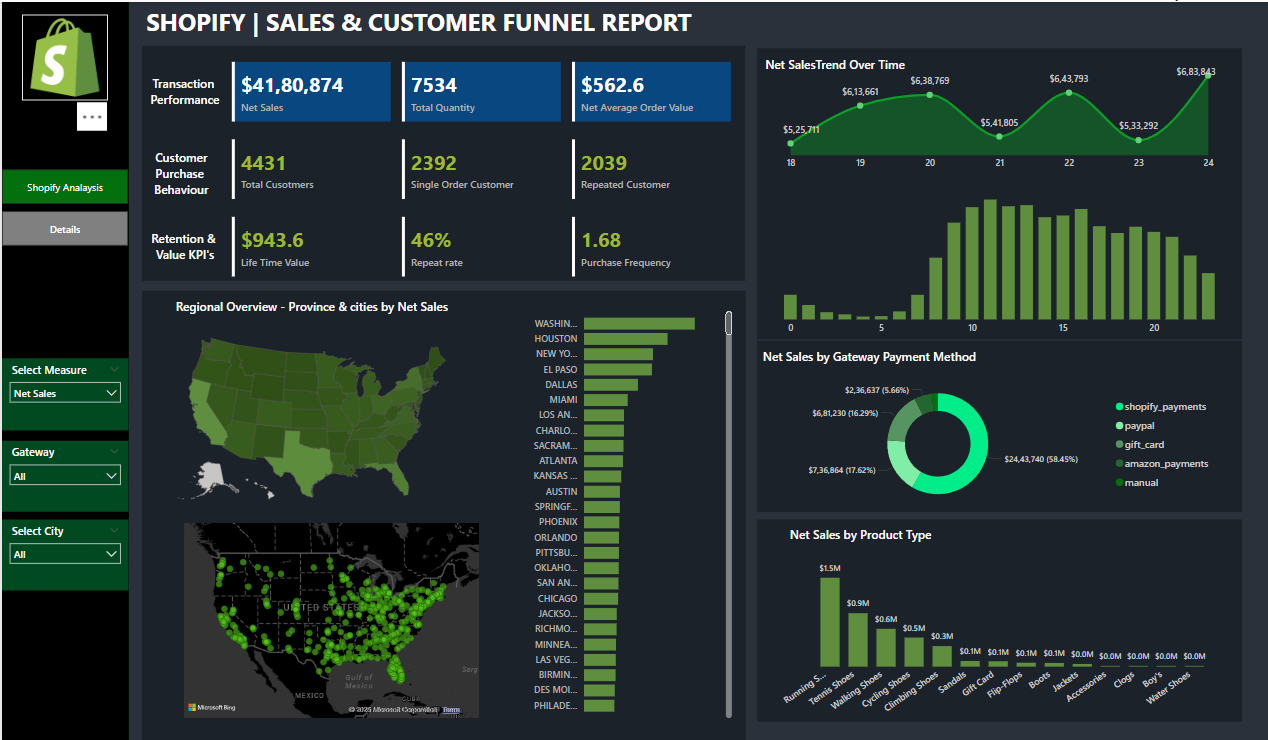

The page's visual inventory and layout, read from the dashboard file:
{"tool":"powerbi","page":{"name":"Shopify Analaysis","canvas":[1700,1000],"ordinal":0},"visuals":[{"type":"shape","box":[0,0,170,1000.5],"z":0},{"type":"textbox","box":[181,0,755.7,62],"z":1000},{"type":"shape","box":[187.7,58.6,808.7,315],"z":2000},{"type":"cardVisual","fields":{"Data":["shopify_sales.Net Sales","shopify_sales.Total Quantity","shopify_sales.Net Average Order Value"]},"box":[303.3,75.4,680.3,90.5],"z":3000},{"type":"card","fields":{"Values":["shopify_sales.Transaction Perf"]},"box":[187.7,72.1,115.6,93.8],"z":4000},{"type":"cardVisual","fields":{"Data":["shopify_sales.Total Cusotmers","shopify_sales.Single Order Customer","shopify_sales.Repeated Customer"]},"box":[303.3,179.3,680.3,90.5],"z":5000},{"type":"card","fields":{"Values":["shopify_sales.Customer Pur behav"]},"box":[182.3,178.6,115.6,93.8],"z":6000},{"type":"cardVisual","fields":{"Data":["shopify_sales.Life Time Value","shopify_sales.Repeat rate","shopify_sales.Purchase Frequency"]},"box":[303.3,283.2,680.3,90.5],"z":7000},{"type":"card","fields":{"Values":["shopify_sales.Retention & Value KPI's"]},"box":[187.7,279.8,115.6,93.8],"z":8000},{"type":"shape","box":[187.7,387.1,809.3,613.3],"z":9000},{"type":"shapeMap","fields":{"Value":["shopify_sales.Net Sales"],"Category":["shopify_sales.Billing Address Province"]},"box":[187.7,434,455.8,249.7],"z":10000},{"type":"slicer","fields":{"Values":["Select Measure .Select Measure "]},"box":[0,477.5,169.2,97.2],"z":11000},{"type":"map","fields":{"Category":["shopify_sales.Location"]},"box":[239.6,693.7,403.8,271.4],"z":12000},{"type":"clusteredBarChart","fields":{"Y":["shopify_sales.Net Sales"],"Category":["shopify_sales.CITY"]},"box":[695.4,402.1,288.2,563],"z":13000},{"type":"card","fields":{"Values":["shopify_sales.Map Title"]},"box":[187.7,387.1,455.8,46.9],"z":14000},{"type":"shape","box":[1012.1,62,650.1,390.4],"z":15000},{"type":"areaChart","fields":{"Y":["shopify_sales.Net Sales"],"Category":["shopify_sales.Invoice Date.Variation.Date Hierarchy.Day"]},"box":[1042.2,75.4,589.8,159.2],"z":16000},{"type":"columnChart","fields":{"Y":["shopify_sales.Net Sales"],"Category":["shopify_sales.Hour"]},"box":[1042.2,234.6,589.8,221.2],"z":17000},{"type":"card","fields":{"Values":["shopify_sales.Trend Title"]},"box":[1012.1,62,209.5,46.9],"z":18000},{"type":"shape","box":[1012.1,454.1,650.1,229.6],"z":19000},{"type":"donutChart","fields":{"Y":["shopify_sales.Net Sales"],"Category":["shopify_sales.Gateway"]},"box":[1012.1,501,620,182.6],"z":20000},{"type":"card","fields":{"Values":["shopify_sales.Gateway Title"]},"box":[1012.1,454.1,301.6,46.9],"z":21000},{"type":"shape","box":[1012.1,693.7,650.1,271.4],"z":22000},{"type":"columnChart","fields":{"Y":["shopify_sales.Net Sales"],"Category":["shopify_sales.Product Type"]},"box":[1042.2,738.9,589.8,226.2],"z":23000},{"type":"card","fields":{"Values":["shopify_sales.Products Title"]},"box":[1012.1,692,278.2,46.9],"z":24000},{"type":"image","box":[26.8,16.8,115.6,115.6],"z":25000},{"type":"slicer","fields":{"Values":["shopify_sales.Gateway"]},"box":[0,588.1,169.2,95.5],"z":26000},{"type":"slicer","fields":{"Values":["shopify_sales.Billing Address Province"]},"box":[0,693.7,169.2,95.5],"z":27000},{"type":"pageNavigator","box":[0,224.5,169.2,102.2],"z":28000}]}

Visuals, with their boxes on the page's 1700x1000 design canvas (x1, y1, x2, y2). These are canvas units, not pixel positions in the 1268x740 screenshot, which may show the page scaled, cropped or inside an application window:
shape: [x1=0, y1=0, x2=170, y2=1000]
textbox: [x1=181, y1=0, x2=937, y2=62]
shape: [x1=188, y1=59, x2=996, y2=374]
cardVisual - shopify_sales.Net Sales x shopify_sales.Total Quantity: [x1=303, y1=75, x2=984, y2=166]
card - shopify_sales.Transaction Perf: [x1=188, y1=72, x2=303, y2=166]
cardVisual - shopify_sales.Total Cusotmers x shopify_sales.Single Order Customer: [x1=303, y1=179, x2=984, y2=270]
card - shopify_sales.Customer Pur behav: [x1=182, y1=179, x2=298, y2=272]
cardVisual - shopify_sales.Life Time Value x shopify_sales.Repeat rate: [x1=303, y1=283, x2=984, y2=374]
card - shopify_sales.Retention & Value KPI's: [x1=188, y1=280, x2=303, y2=374]
shape: [x1=188, y1=387, x2=997, y2=1000]
shapeMap - shopify_sales.Net Sales x shopify_sales.Billing Address Province: [x1=188, y1=434, x2=644, y2=684]
slicer - Select Measure .Select Measure : [x1=0, y1=478, x2=169, y2=575]
map - shopify_sales.Location: [x1=240, y1=694, x2=643, y2=965]
clusteredBarChart - shopify_sales.Net Sales x shopify_sales.CITY: [x1=695, y1=402, x2=984, y2=965]
card - shopify_sales.Map Title: [x1=188, y1=387, x2=644, y2=434]
shape: [x1=1012, y1=62, x2=1662, y2=452]
areaChart - shopify_sales.Net Sales x shopify_sales.Invoice Date.Variation.Date Hierarchy.Day: [x1=1042, y1=75, x2=1632, y2=235]
columnChart - shopify_sales.Net Sales x shopify_sales.Hour: [x1=1042, y1=235, x2=1632, y2=456]
card - shopify_sales.Trend Title: [x1=1012, y1=62, x2=1222, y2=109]
shape: [x1=1012, y1=454, x2=1662, y2=684]
donutChart - shopify_sales.Net Sales x shopify_sales.Gateway: [x1=1012, y1=501, x2=1632, y2=684]
card - shopify_sales.Gateway Title: [x1=1012, y1=454, x2=1314, y2=501]
shape: [x1=1012, y1=694, x2=1662, y2=965]
columnChart - shopify_sales.Net Sales x shopify_sales.Product Type: [x1=1042, y1=739, x2=1632, y2=965]
card - shopify_sales.Products Title: [x1=1012, y1=692, x2=1290, y2=739]
image: [x1=27, y1=17, x2=142, y2=132]
slicer - shopify_sales.Gateway: [x1=0, y1=588, x2=169, y2=684]
slicer - shopify_sales.Billing Address Province: [x1=0, y1=694, x2=169, y2=789]
pageNavigator: [x1=0, y1=224, x2=169, y2=327]
